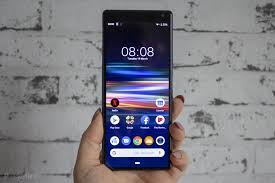sony: (98, 6, 175, 171)
